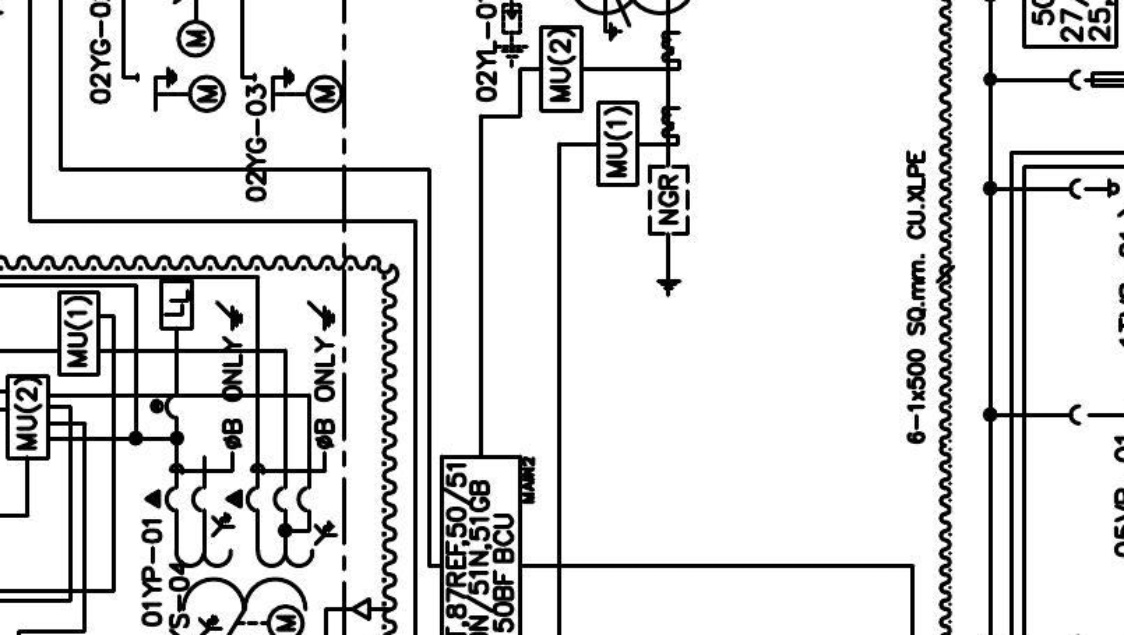115_gs_w_motor: (135, 65, 228, 114), (252, 66, 344, 115)
LL: (159, 279, 195, 332)
MU: (5, 373, 51, 461), (538, 25, 584, 113), (57, 289, 102, 378), (595, 100, 640, 188)
NGR_future: (646, 164, 691, 298)
